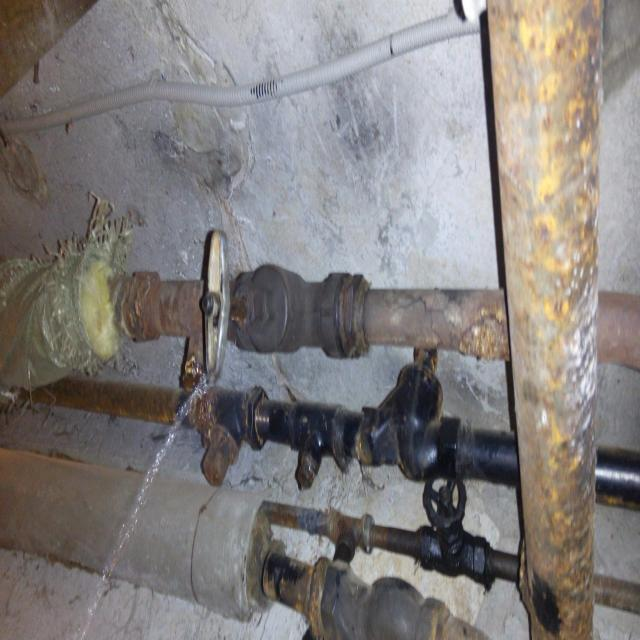leak: (75, 376, 208, 639)
